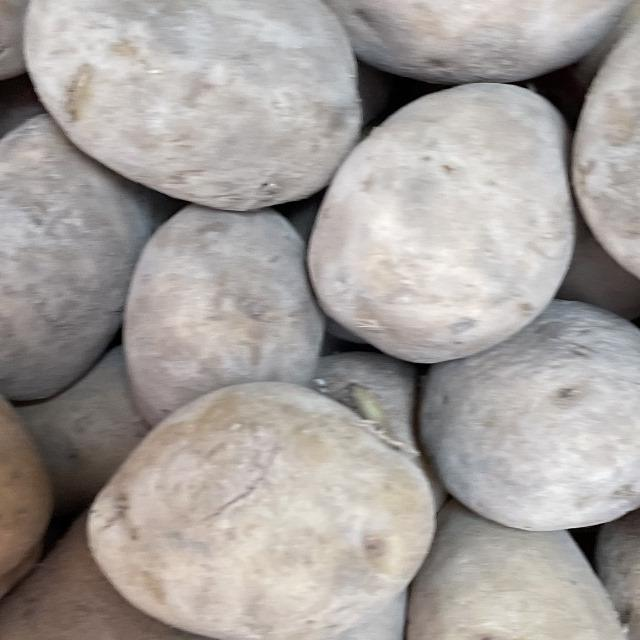potato: (62, 362, 455, 640), (5, 0, 375, 220), (407, 477, 640, 640), (262, 0, 640, 90), (0, 340, 77, 625)
